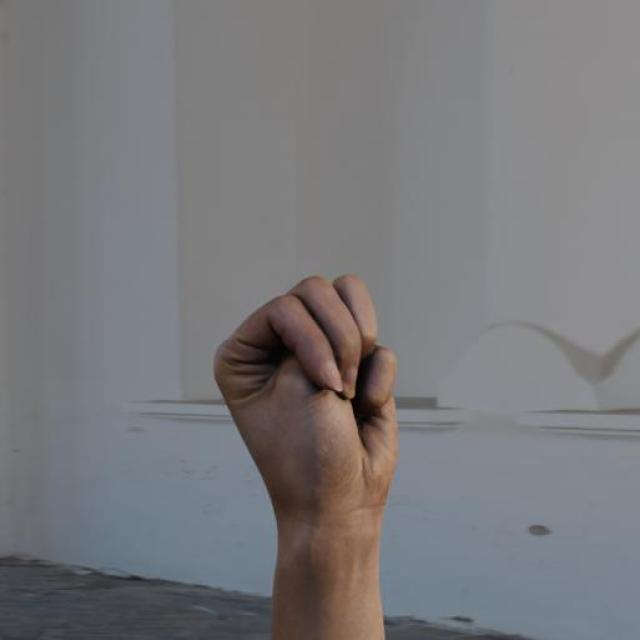M: (210, 271, 404, 527)
